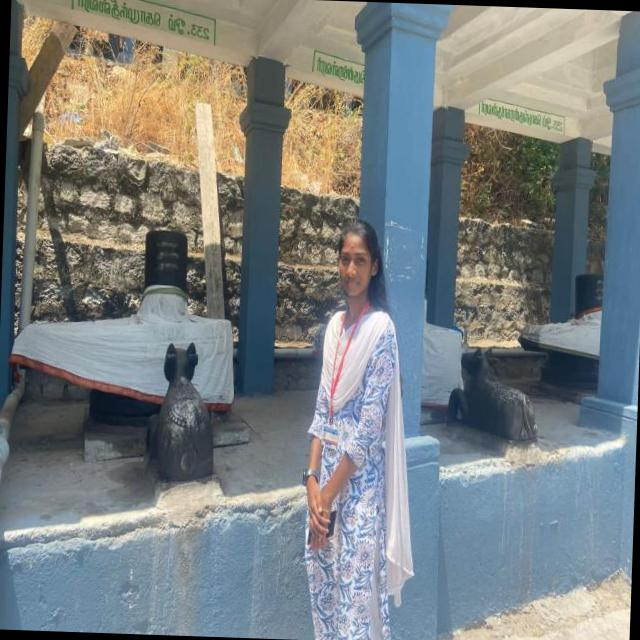id_card: (317, 298, 368, 449)
